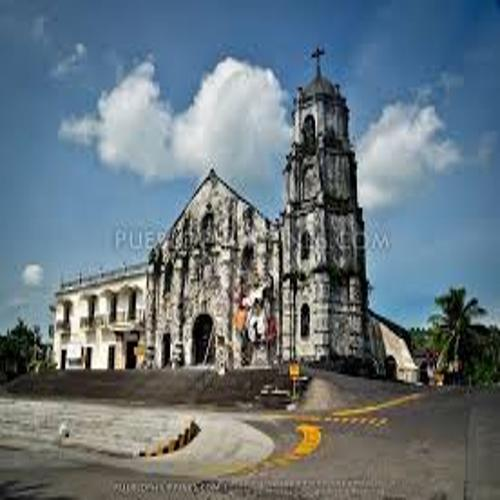Daraga Church: (146, 37, 370, 387)
